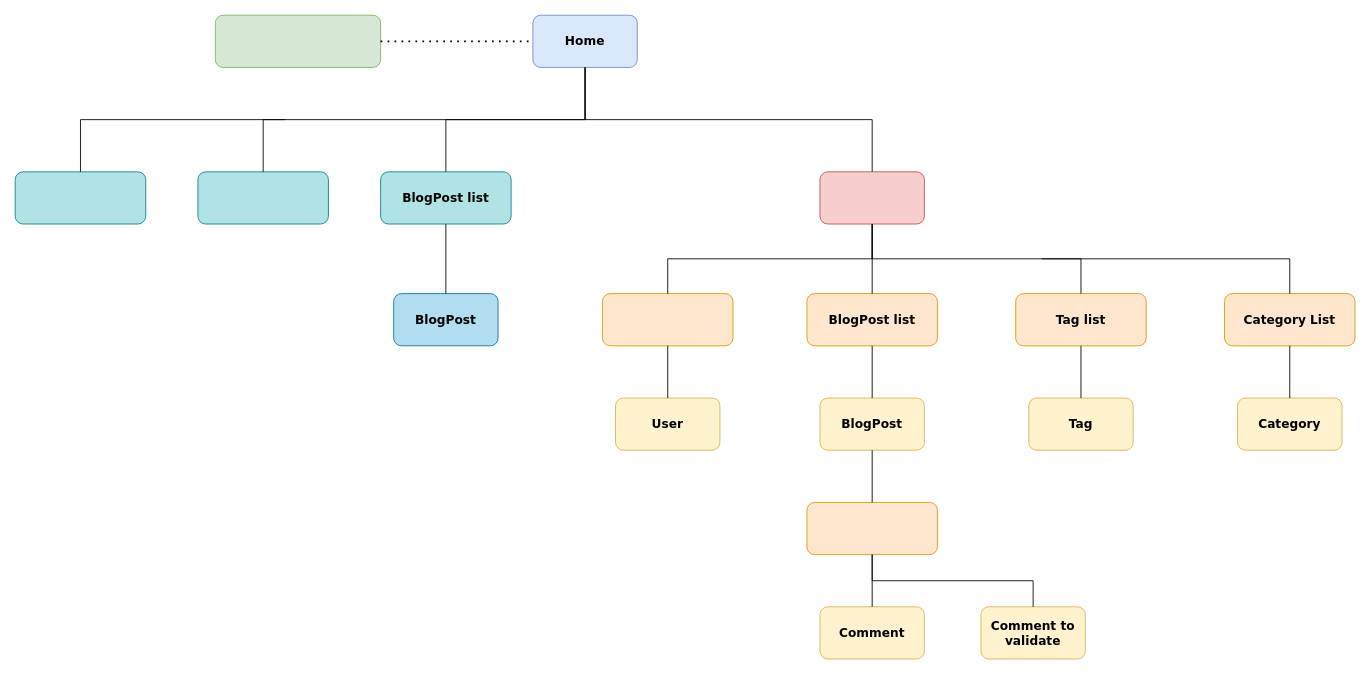
Image size: 1370x674. Some labels were removed from this diagram. Each missing label, with the box of its shape:
Admin: (819, 171, 924, 224)
comment list: (806, 502, 937, 555)
Contact: (214, 14, 381, 67)
Login: (14, 171, 146, 224)
Register: (197, 171, 328, 224)
User list: (602, 293, 733, 346)
